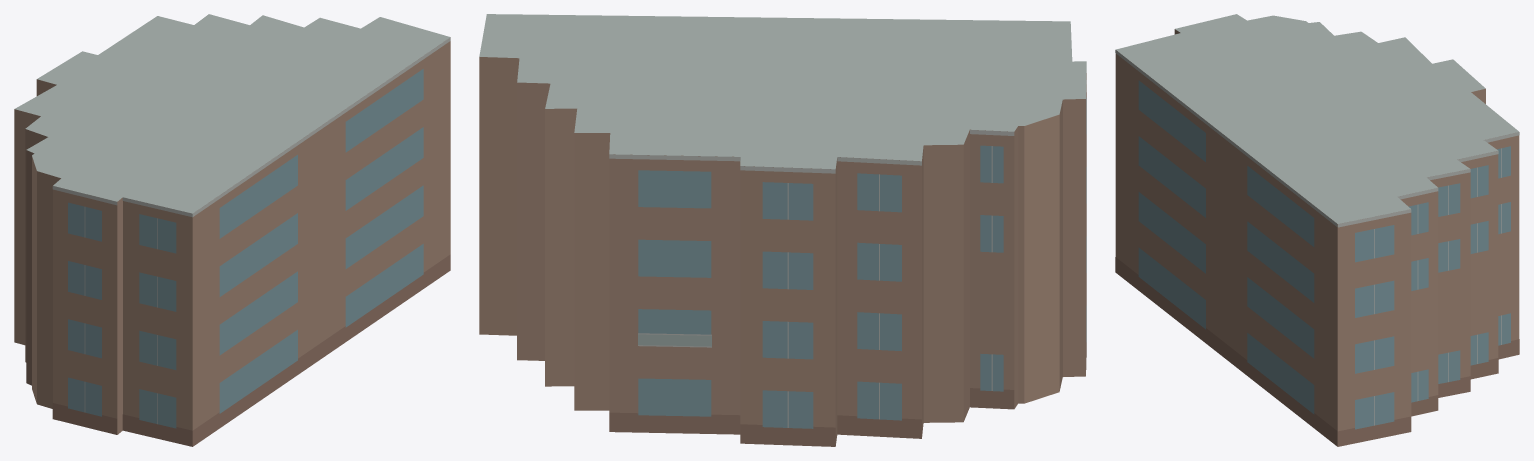
The model's file is survey-upis-32526412.glb.
3 renders of one model, left to right at view 1: azimuth 30°, elevation 25°; view 2: azimuth 150°, elevation 25°; view 3: azimuth 270°, elevation 25°, orthographic. The views are drawn at different scales.
Visible parts, largest first — view 1: survey-upis-32526412.tmp; view 2: survey-upis-32526412.tmp; view 3: survey-upis-32526412.tmp.
Part boxes in pixels (x1=…): survey-upis-32526412.tmp: x1=14, y1=14, x2=450, y2=446; survey-upis-32526412.tmp: x1=479, y1=14, x2=1086, y2=446; survey-upis-32526412.tmp: x1=1115, y1=14, x2=1519, y2=446.
Bounding box in the file's own units: 31.45 × 15.55 × 25.55.
